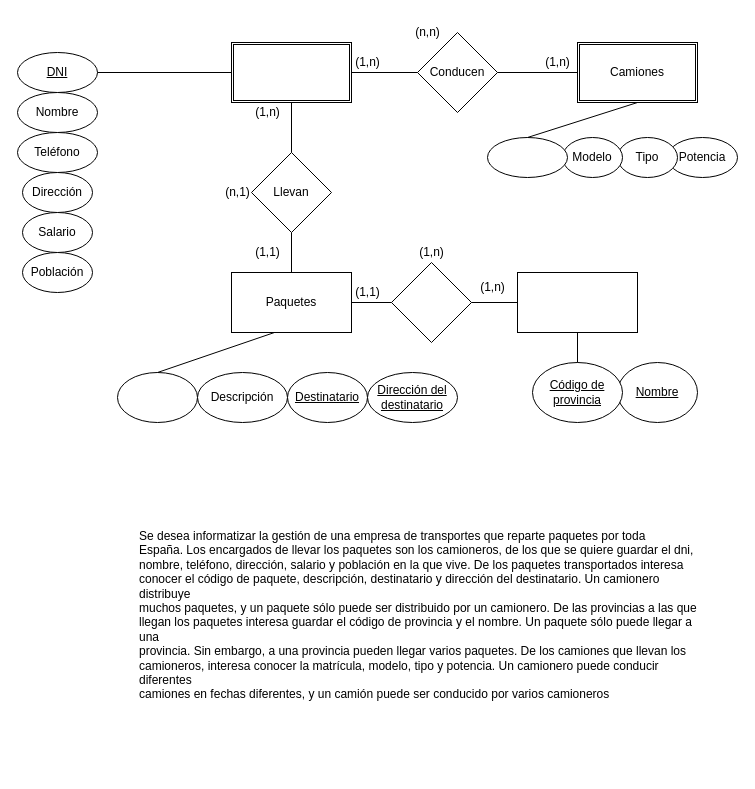
The diagram is 755 pixels wide and 789 high, and some of its shapes have lost their labels. The shapes that lost their labels are listed below. From the top down, each one's centre as x and y in pixels, then its label:
the point at 291,72: Camioneros
the point at 527,157: Matricula
the point at 431,302: Llegan a
the point at 577,302: Provincias
the point at 157,397: Código de paquete
